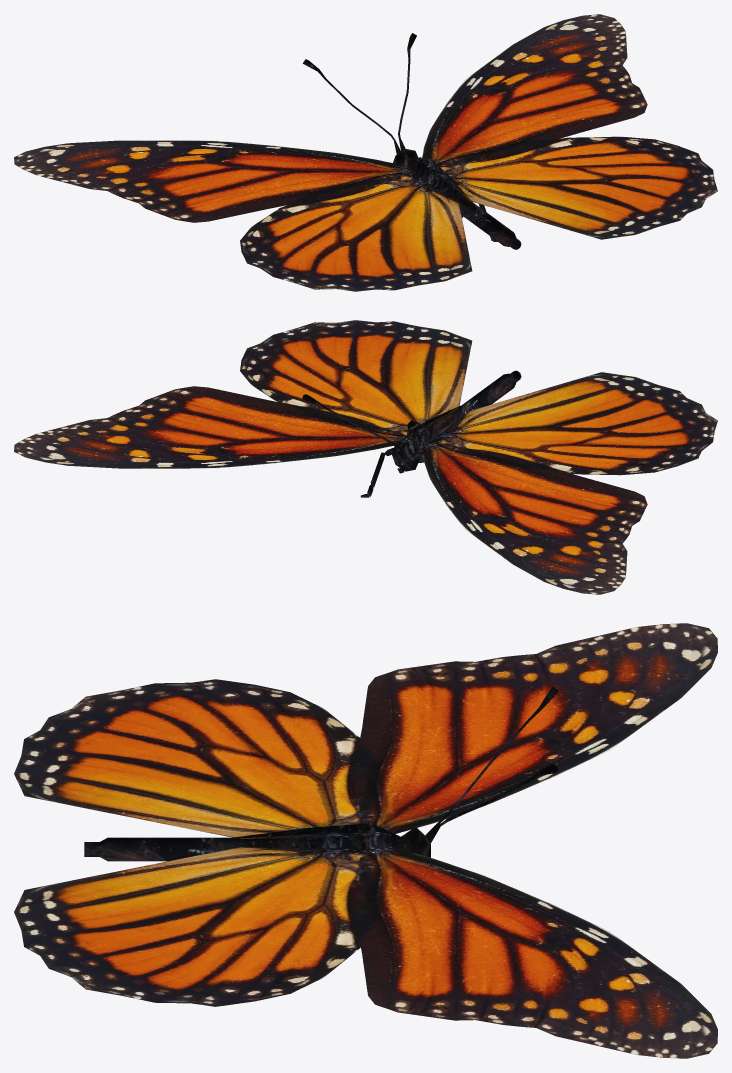
File: butterfly.glb
The picture shows the model from 3 angles, top to bottom: view 1: azimuth 30°, elevation 25°; view 2: azimuth 150°, elevation 25°; view 3: azimuth 270°, elevation 25°; orthographic projection. The views are drawn at different scales.
Parts seen in each view (by area): view 1: wingR, wingL, body; view 2: wingR, wingL, body; view 3: wingL, wingR, body.
Part boxes in pixels (bbox=[...]): wingR: bbox=[14, 140, 472, 291]; wingL: bbox=[422, 14, 717, 239]; body: bbox=[303, 33, 521, 249]; wingR: bbox=[422, 372, 717, 594]; wingL: bbox=[14, 320, 472, 468]; body: bbox=[302, 370, 521, 497]; wingL: bbox=[14, 846, 717, 1058]; wingR: bbox=[14, 623, 717, 838]; body: bbox=[84, 686, 558, 861].
Bounding box in the file's own units: 0.2797 × 0.0633 × 0.191.
Materials: 2 (2 with a texture image).
